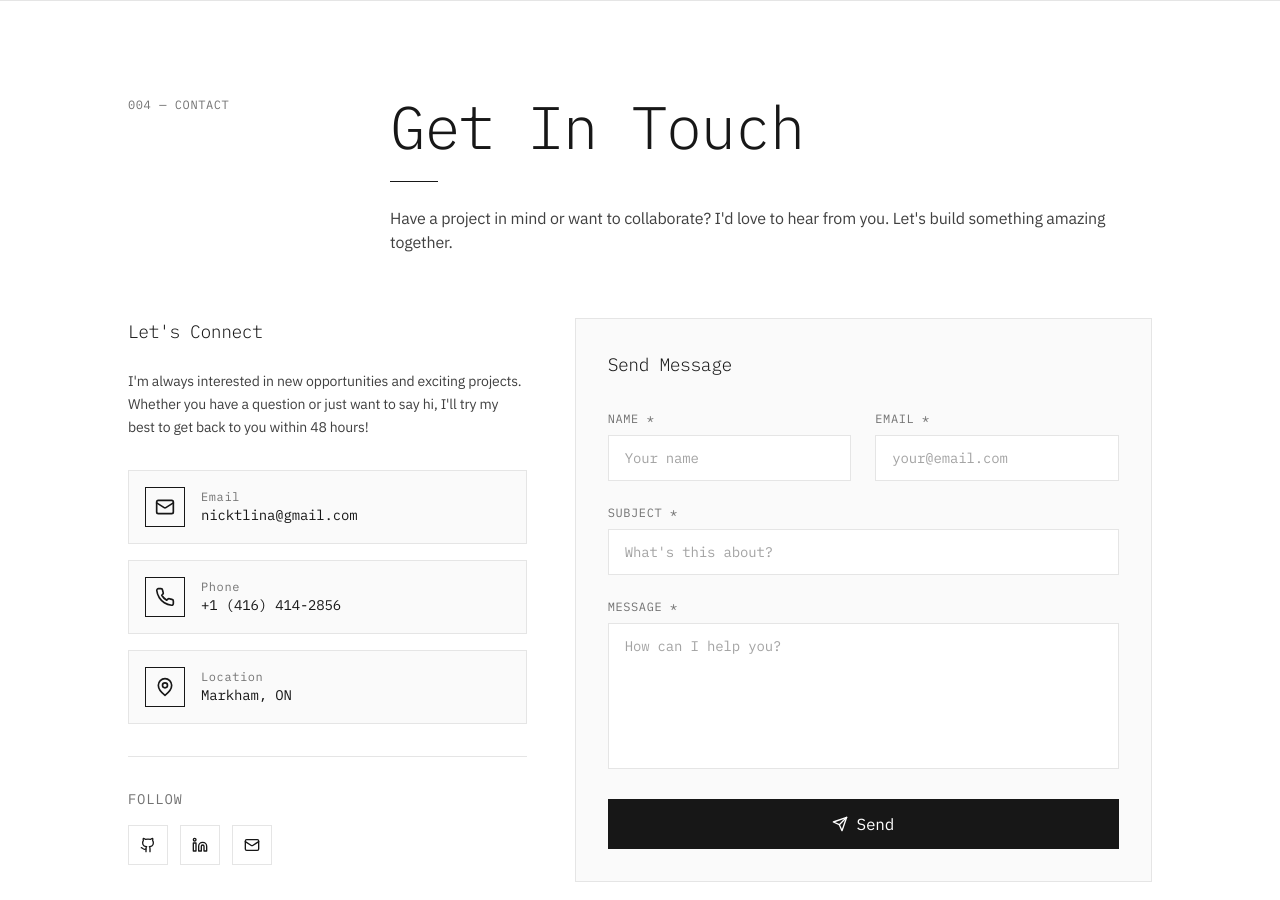
Contact form › shows an error when configuration is missing
Type "Jane Doe" into the field labelled "NAME *" at [730, 458], box top-left (608, 435), bottom-right (851, 481)
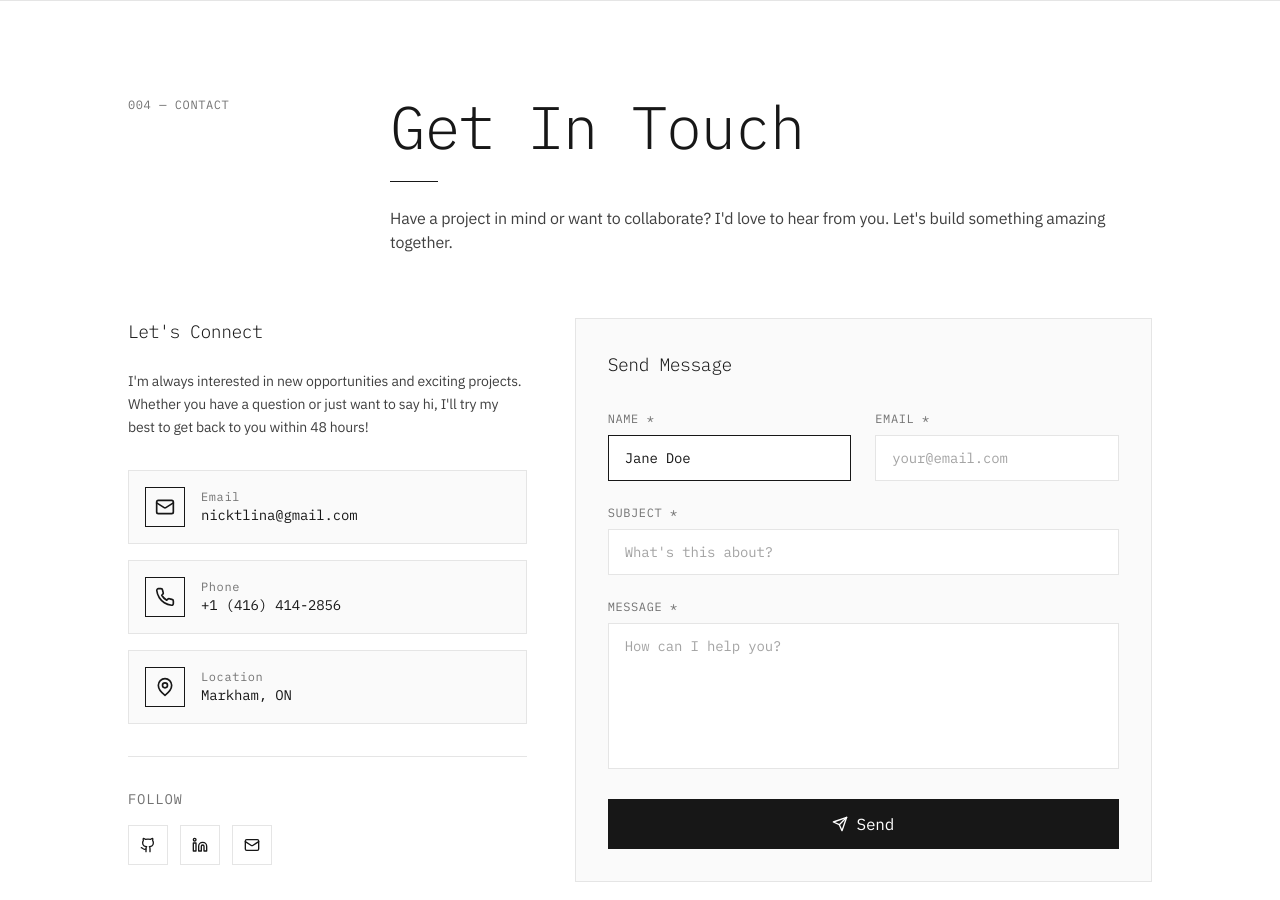
Type "jane@example.com" into the field labelled "EMAIL *" at [997, 458], box top-left (875, 435), bottom-right (1119, 481)
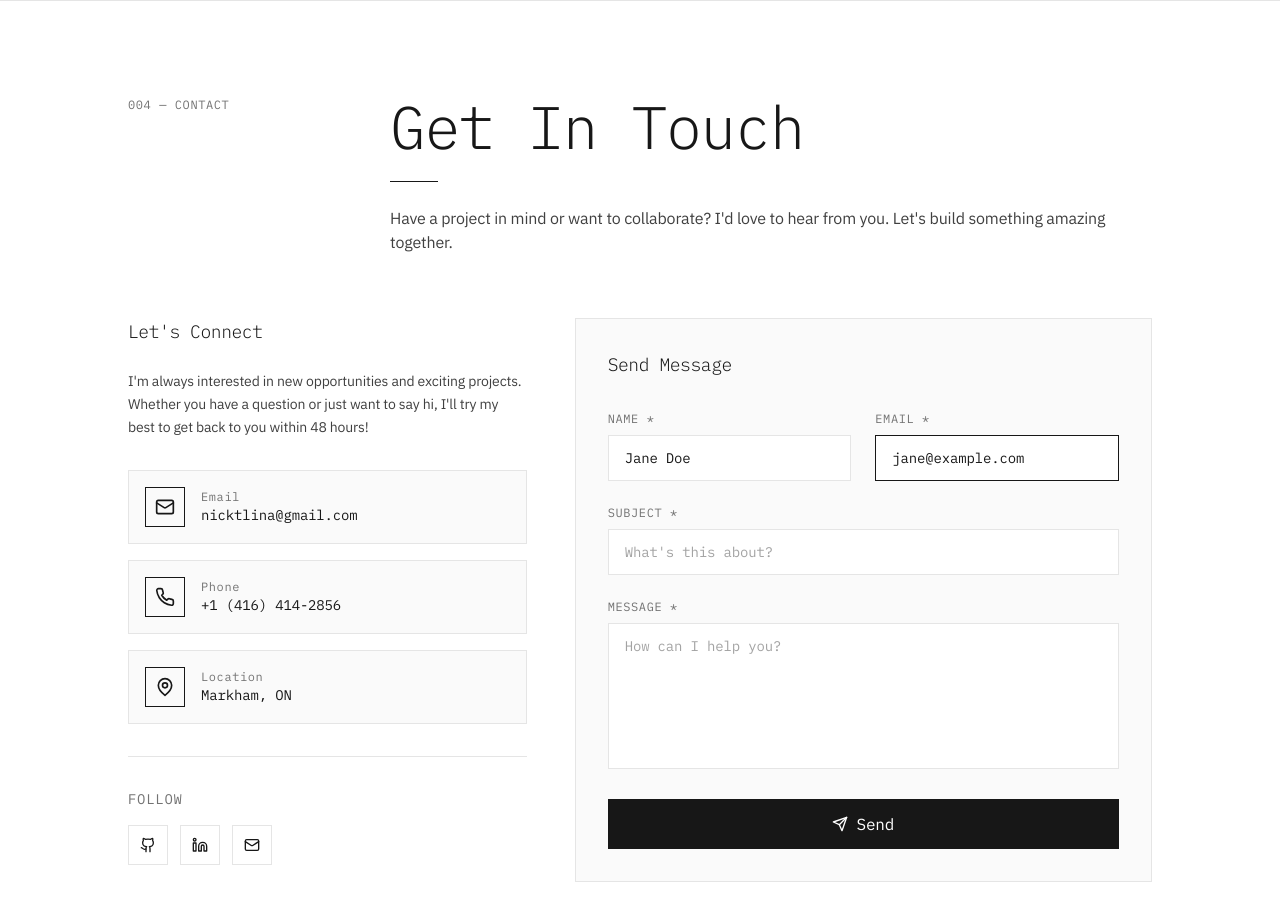
Type "Hello" into the field labelled "SUBJECT *" at [863, 552], box top-left (608, 529), bottom-right (1119, 575)
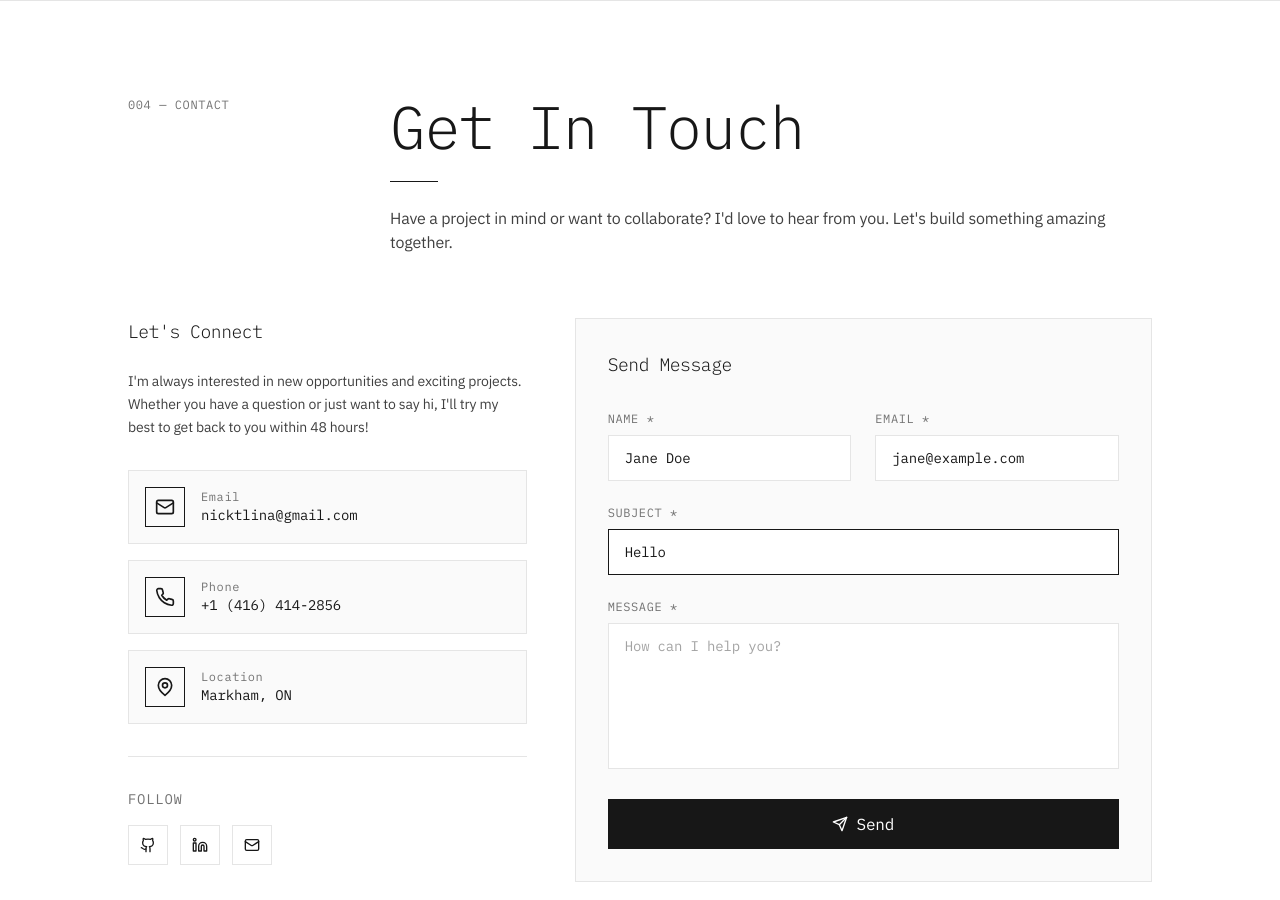
Type "Test message" into the text box labelled "MESSAGE *" at [863, 696], box top-left (608, 623), bottom-right (1119, 769)
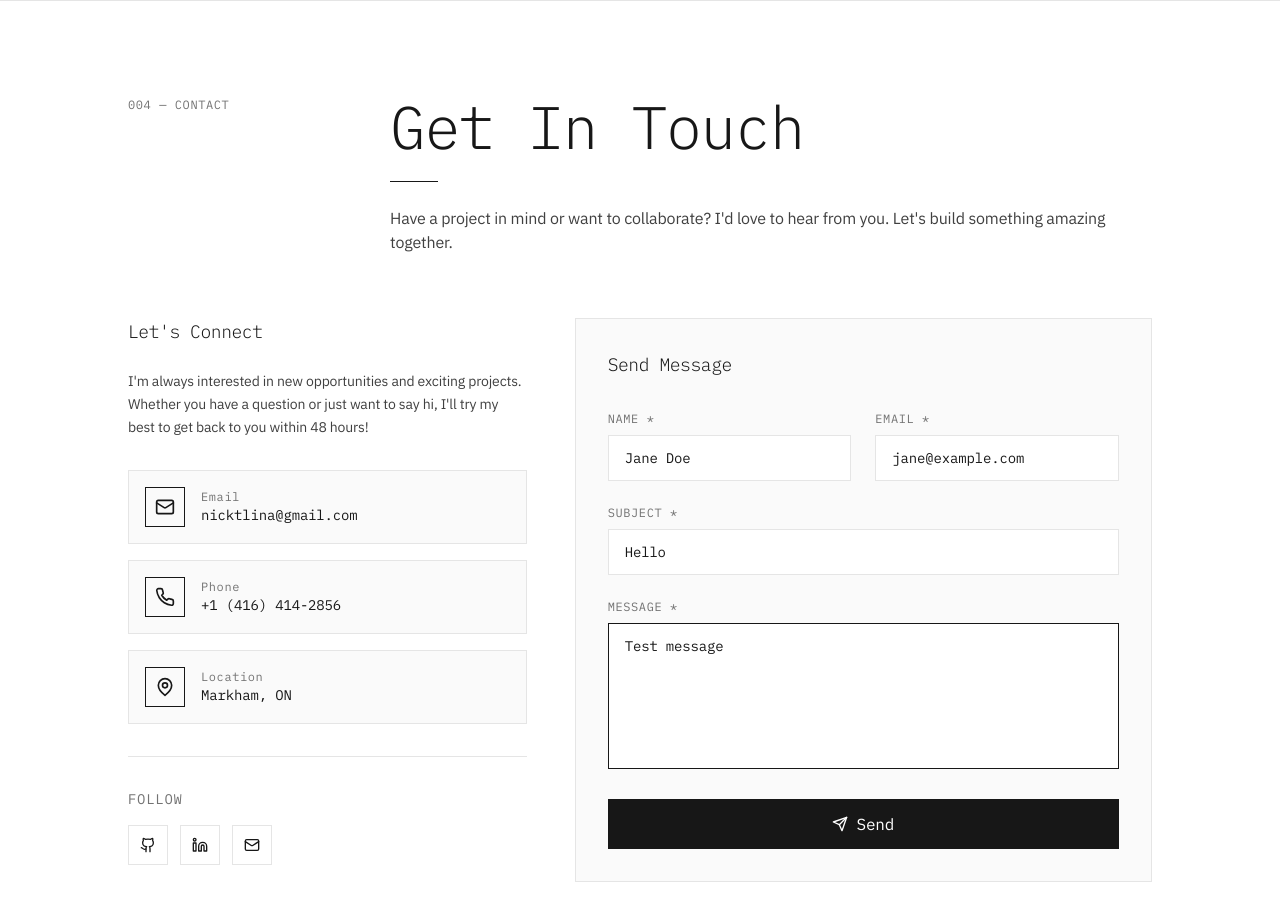
Click the button "Send" at [863, 824], box top-left (608, 799), bottom-right (1119, 849)
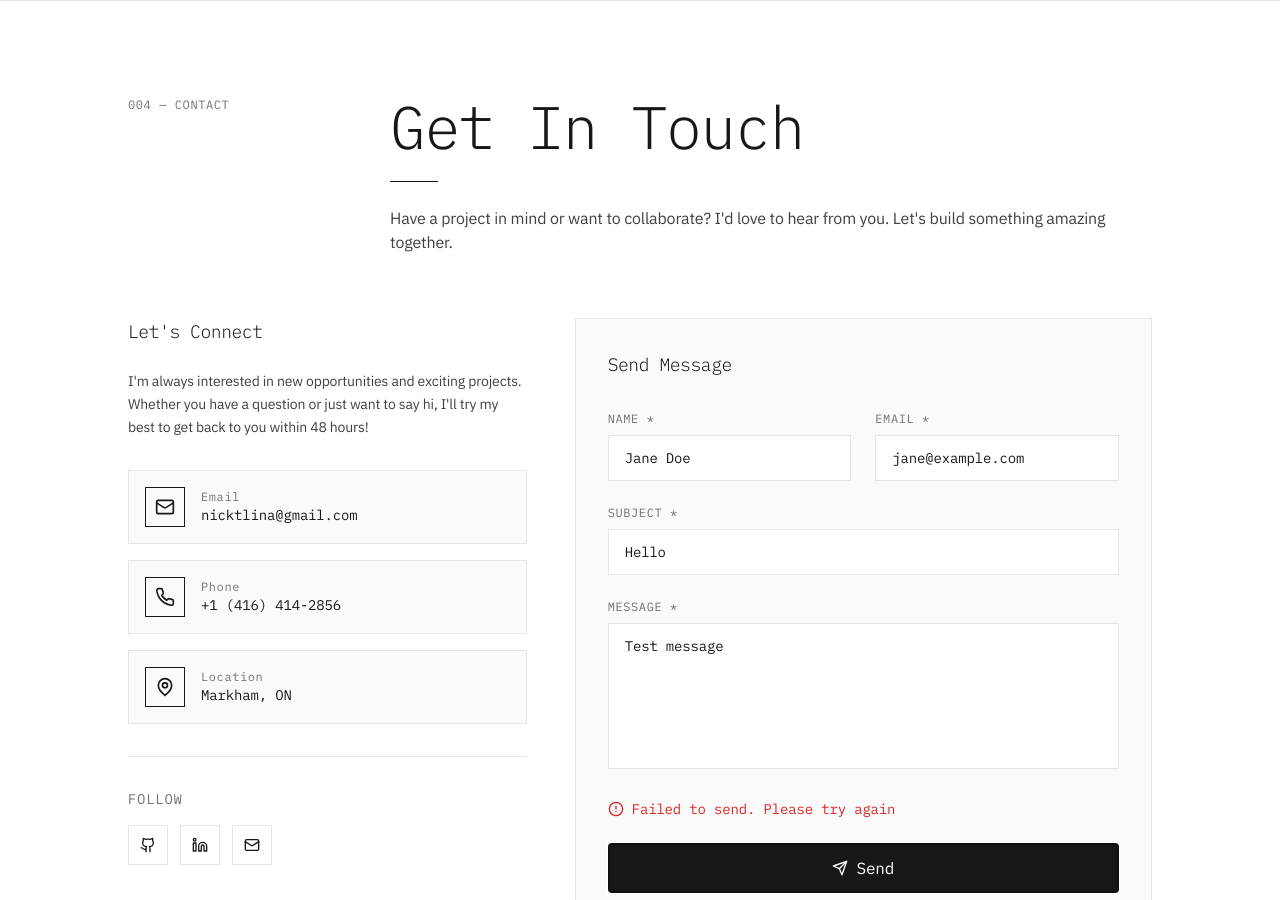
Expected: the text "Failed to send. Please try again" is shown, top-left (632, 799), bottom-right (895, 819)
